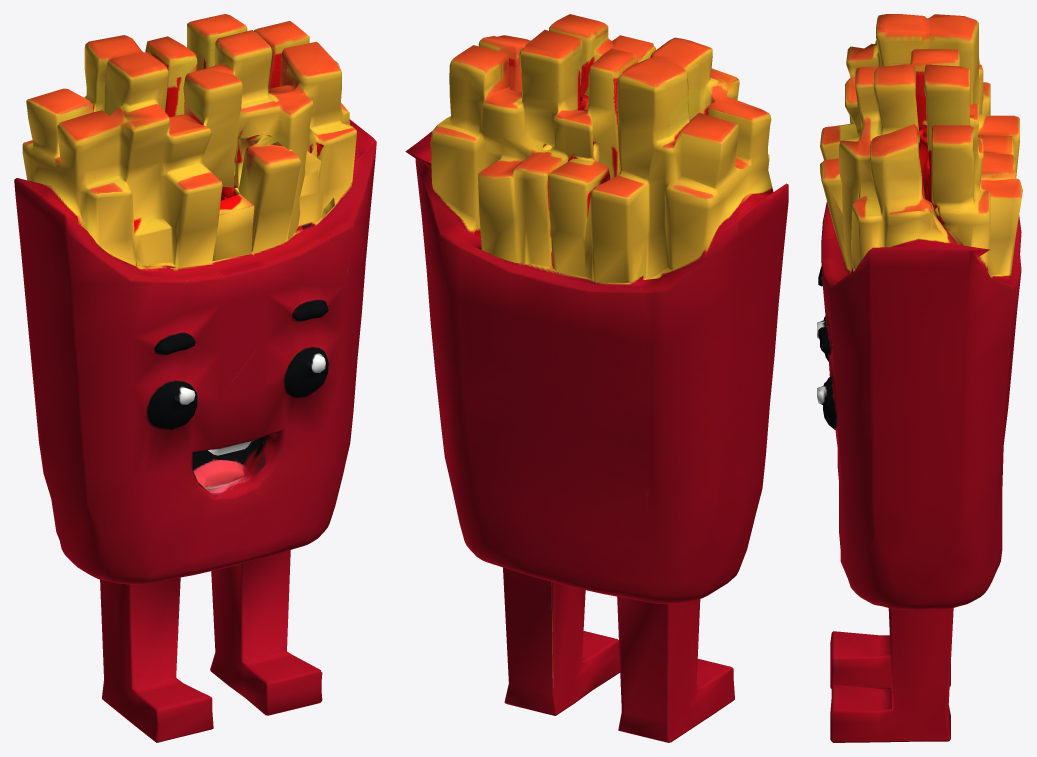
Rendered from Meshy_AI_Happy_Fries_0507204043_texture.fbx.
3 renders of one model, left to right at view 1: azimuth 30°, elevation 25°; view 2: azimuth 150°, elevation 25°; view 3: azimuth 270°, elevation 25°, orthographic. The views are drawn at different scales.
Visible parts, largest first — view 1: Mesh_0; view 2: Mesh_0; view 3: Mesh_0.
Boxes of the visible parts, x1,y1,x2,y2 form: Mesh_0: (14, 14, 376, 742); Mesh_0: (405, 14, 788, 742); Mesh_0: (817, 14, 1022, 742).
Bounding box in the file's own units: 95.89 × 191 × 54.79.
1 material, 1 textured.
